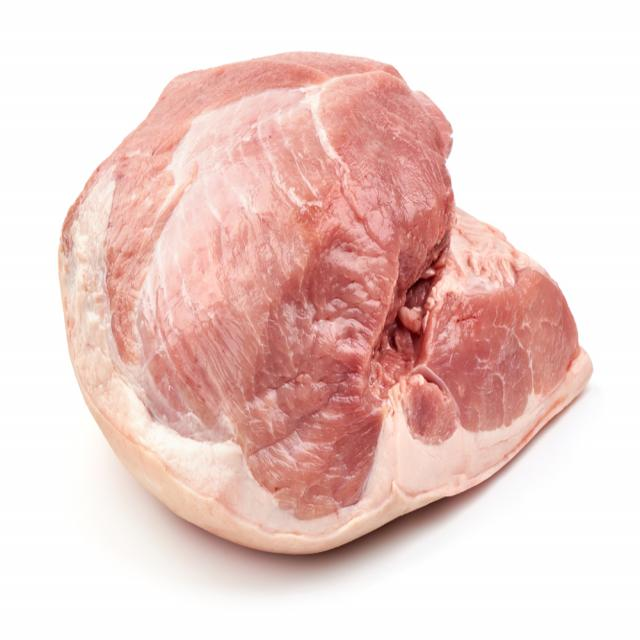Pork: (58, 52, 594, 553)
